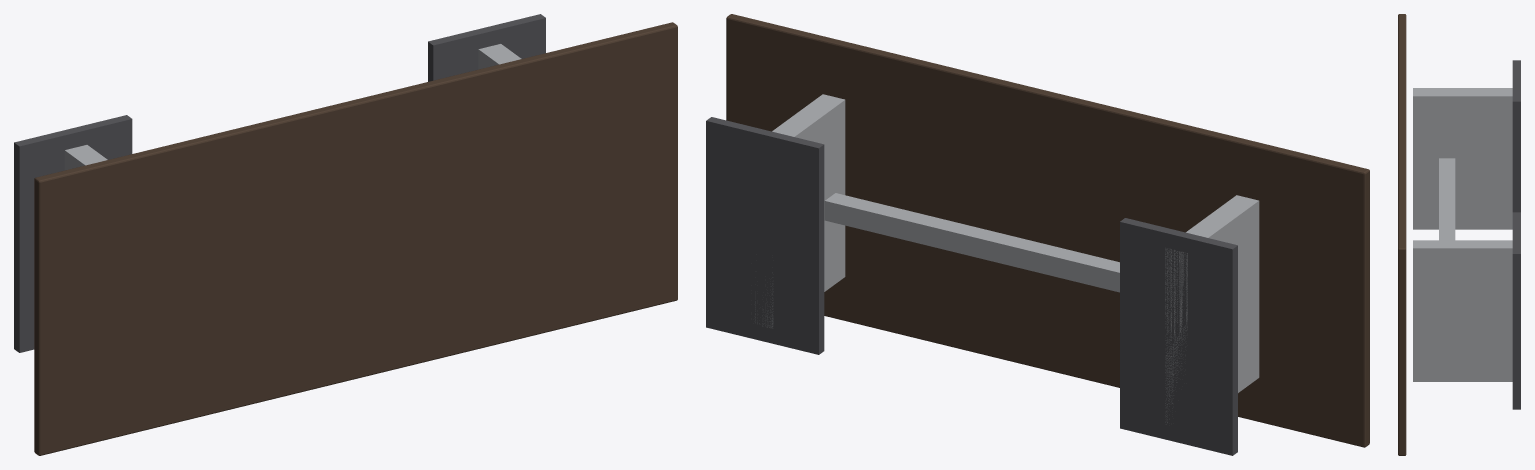
File: conference_table.glb
3 views of the same model, side by side, from view 1: azimuth 30°, elevation 25°; view 2: azimuth 150°, elevation 25°; view 3: azimuth 270°, elevation 25° (orthographic). The views are drawn at different scales.
Parts seen in each view (by area): view 1: conf_table_top, conf_table_foot, conf_table_foot.001, conf_table_pedestal, conf_table_pedestal.001; view 2: conf_table_top, conf_table_foot.001, conf_table_foot, conf_table_beam, conf_table_pedestal, conf_table_pedestal.001; view 3: conf_table_pedestal.001, conf_table_pedestal, conf_table_top, conf_table_foot.001, conf_table_beam, conf_table_foot.
Part boxes in pixels (<box>): conf_table_top: <box>34,22,677,455</box>; conf_table_foot: <box>14,115,132,352</box>; conf_table_foot.001: <box>428,14,545,81</box>; conf_table_pedestal: <box>64,145,107,170</box>; conf_table_pedestal.001: <box>478,44,521,69</box>; conf_table_top: <box>726,14,1369,447</box>; conf_table_foot.001: <box>706,117,824,354</box>; conf_table_foot: <box>1120,218,1237,455</box>; conf_table_beam: <box>824,193,1119,292</box>; conf_table_pedestal: <box>1165,195,1259,424</box>; conf_table_pedestal.001: <box>755,94,845,328</box>; conf_table_pedestal.001: <box>1413,240,1512,381</box>; conf_table_pedestal: <box>1413,88,1512,229</box>; conf_table_top: <box>1398,14,1406,455</box>; conf_table_foot.001: <box>1512,212,1520,409</box>; conf_table_beam: <box>1439,158,1455,240</box>; conf_table_foot: <box>1512,60,1520,212</box>.
Bounding box in the file's own units: 3.4 × 1.4 × 0.75.
